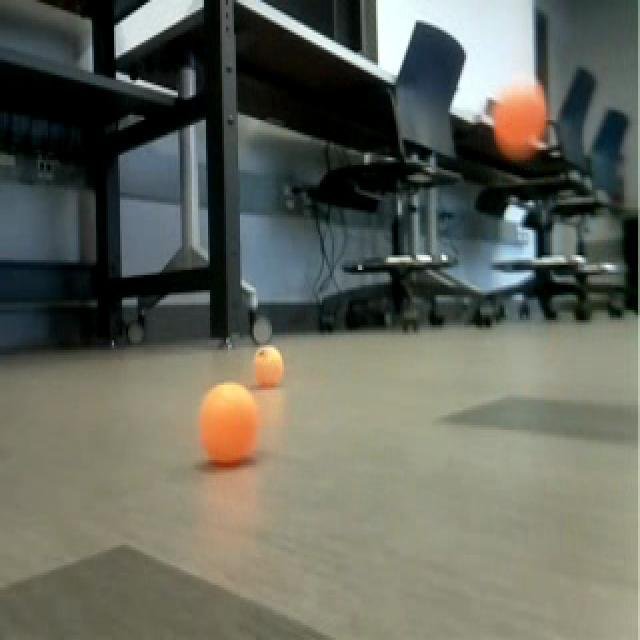oball: (192, 380, 264, 464), (488, 76, 554, 161), (252, 342, 286, 394)
